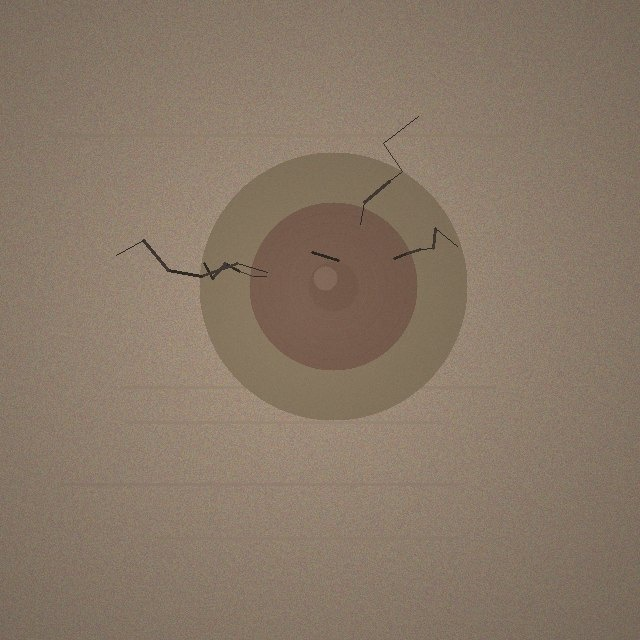crack: (199, 152, 467, 420)
